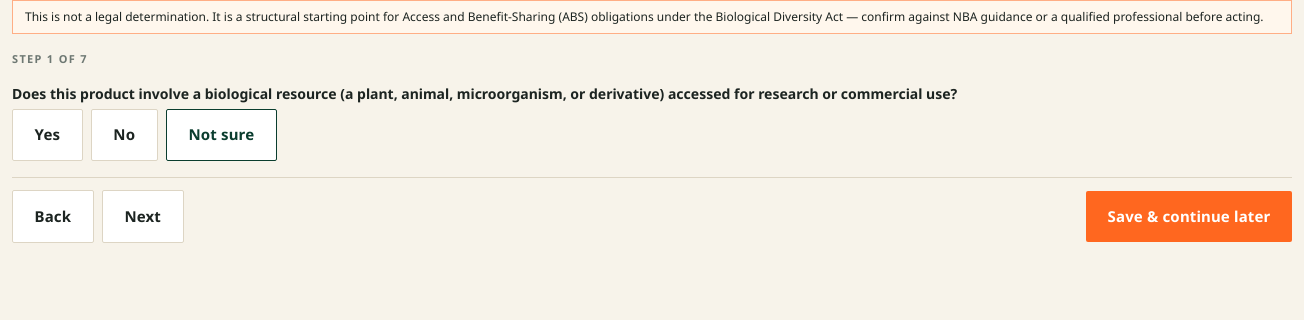
Scenario: ABS wizard steps forward and back without losing an earlier answer
Expected: the text "Step 1 of 7" is shown, [12,51,88,66]
Expected: the text "Does this product involve a biological resource (a plant, animal, microorganism, or derivative) accessed for research or" is shown, [12,84,957,103]
Click the button "Yes" at coordinates (47, 135), box [12,109,83,161]
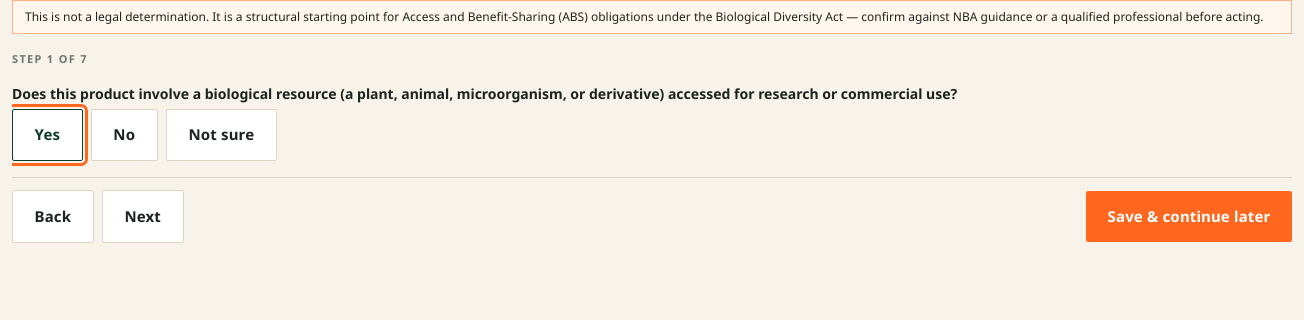
Expected: the button "Yes" is pressed, [12,109,83,161]
Click the button "Next" at coordinates (143, 216), box [102,190,184,243]
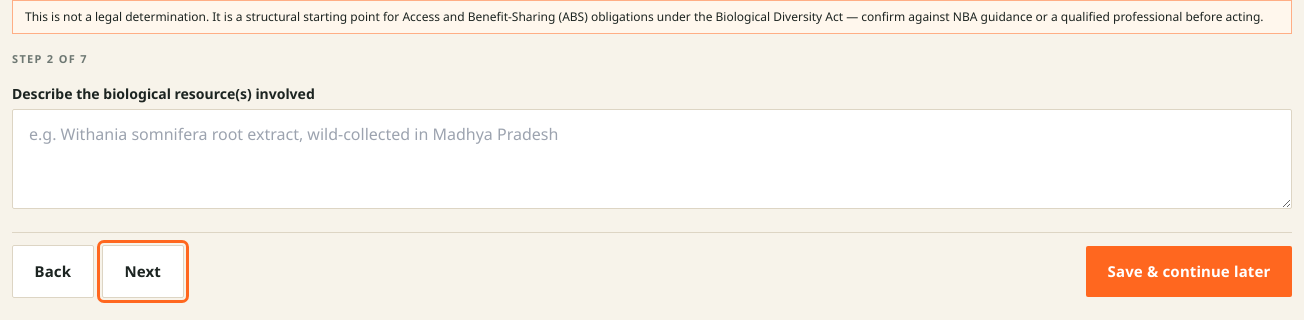
Expected: the text "Step 2 of 7" is shown, [12,51,88,66]
Expected: the text "Describe the biological resource(s) involved" is shown, [12,84,315,103]
Click the button "Back" at coordinates (53, 272), box [12,246,94,298]
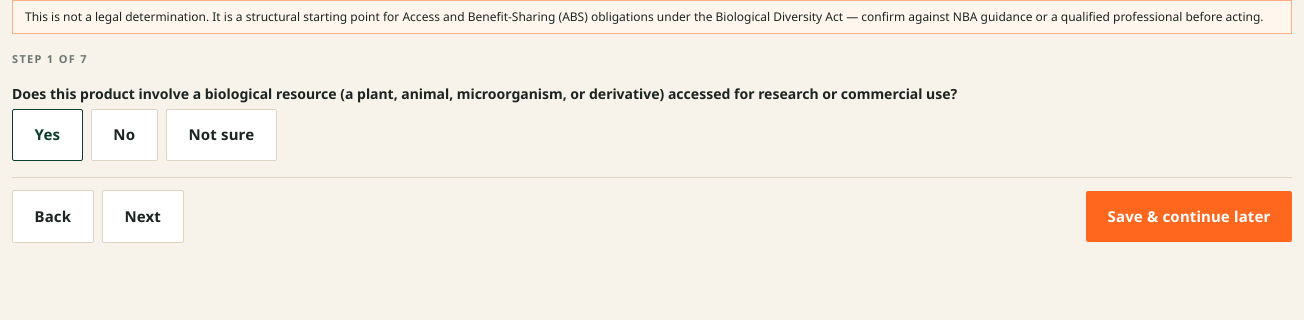
Expected: the text "Step 1 of 7" is shown, [12,51,88,66]
